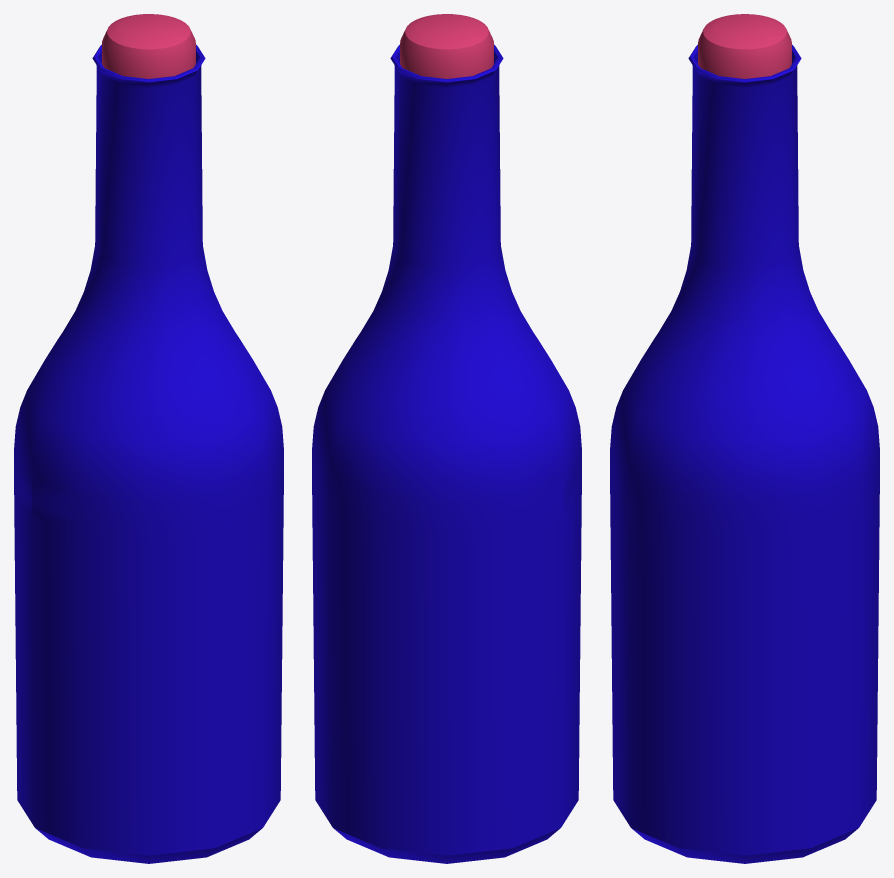
Rendered from vYno.fbx.
3 views of the same model, side by side, from view 1: azimuth 30°, elevation 25°; view 2: azimuth 150°, elevation 25°; view 3: azimuth 270°, elevation 25° (orthographic).
Parts seen in each view (by area): view 1: BezierCurve; view 2: BezierCurve; view 3: BezierCurve.
Part boxes in pixels (bbox=[...]): BezierCurve: bbox=[14, 14, 283, 863]; BezierCurve: bbox=[312, 14, 581, 863]; BezierCurve: bbox=[610, 14, 879, 863].
Size of the model in its own units: 9.85 by 32 by 9.85.
